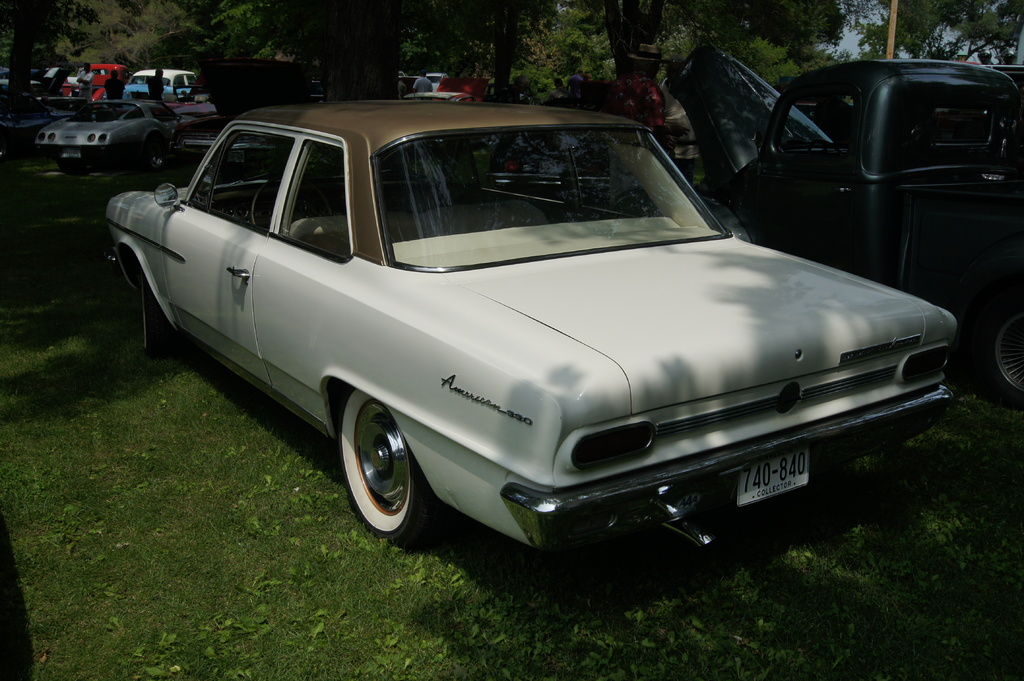Car: (90, 101, 963, 570), (691, 44, 1020, 400), (0, 51, 488, 168)
